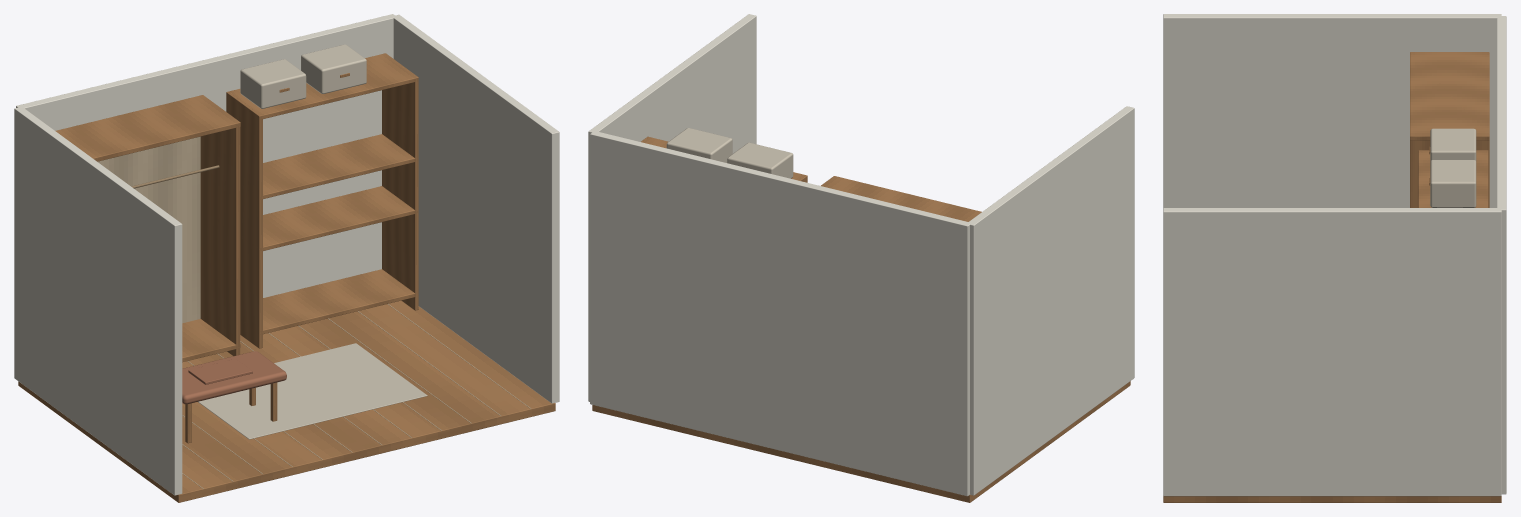
The model's file is room.glb.
3 views of the same model, side by side, from view 1: azimuth 30°, elevation 25°; view 2: azimuth 150°, elevation 25°; view 3: azimuth 270°, elevation 25° (orthographic). The views are drawn at different scales.
Parts seen in each view (by area): view 1: warm_plaster, original_oak_grain, ivory_woven, original_birch_grain, rust_woven; view 2: warm_plaster, original_oak_grain, ivory_woven; view 3: warm_plaster, original_oak_grain, ivory_woven.
Boxes of the visible parts, x1,y1,x2,y2 form: warm_plaster: (14, 14, 559, 495); original_oak_grain: (18, 53, 555, 502); ivory_woven: (198, 44, 427, 439); original_birch_grain: (97, 136, 531, 488); rust_woven: (182, 351, 286, 404); warm_plaster: (588, 14, 1134, 496); original_oak_grain: (592, 136, 1130, 502); ivory_woven: (666, 128, 793, 178); warm_plaster: (1163, 14, 1506, 496); original_oak_grain: (1163, 52, 1501, 502); ivory_woven: (1430, 128, 1476, 207).
Size of the model in its own units: 3.88 by 2.68 by 2.84.
Materials: 6 (2 with a texture image).
